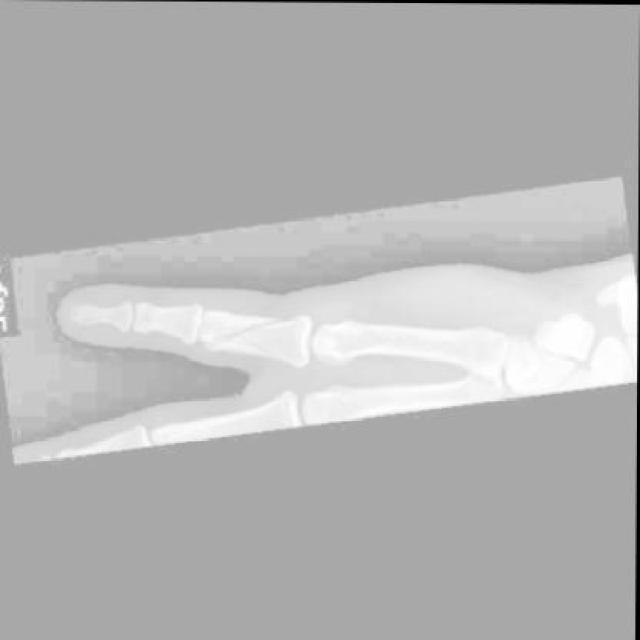Fracture: (199, 310, 292, 370)
